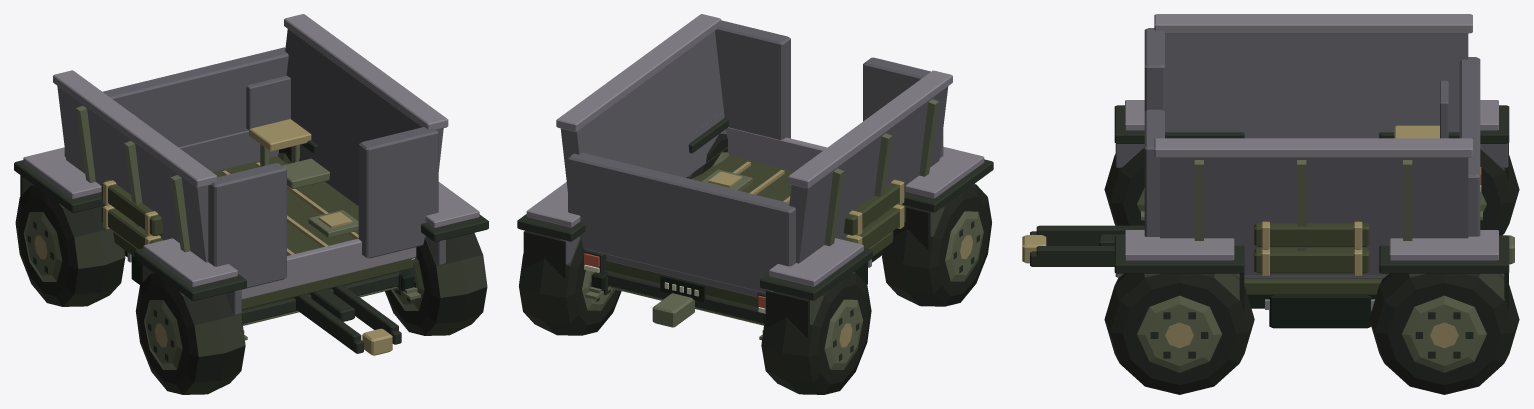
Rendered from military_wagon_anti_tank.glb.
3 views of the same model, side by side, from view 1: azimuth 30°, elevation 25°; view 2: azimuth 150°, elevation 25°; view 3: azimuth 270°, elevation 25° (orthographic). The views are drawn at different scales.
Visible parts, largest first — view 1: WagonDetails_anti_tank, WagonDeck.004, AllTerrainTire.016, AllTerrainTire.018, AllTerrainTire.017, DrawbarFrame.004; view 2: WagonDetails_anti_tank, WagonDeck.004, AllTerrainTire.018, AllTerrainTire.016, AllTerrainTire.019, AllTerrainTire.017; view 3: WagonDetails_anti_tank, WagonDeck.004, AllTerrainTire.017, AllTerrainTire.019, AllTerrainTire.018, AllTerrainTire.016, DrawbarFrame.004.
Part boxes in pixels (left/top/right/bottom): WagonDetails_anti_tank: left=53, top=14, right=448, bottom=289; WagonDeck.004: left=14, top=76, right=488, bottom=341; AllTerrainTire.016: left=135, top=272, right=245, bottom=394; AllTerrainTire.018: left=15, top=184, right=125, bottom=306; AllTerrainTire.017: left=385, top=233, right=487, bottom=335; DrawbarFrame.004: left=296, top=298, right=401, bottom=355; WagonDetails_anti_tank: left=556, top=14, right=952, bottom=292; WagonDeck.004: left=517, top=111, right=993, bottom=340; AllTerrainTire.018: left=761, top=272, right=871, bottom=394; AllTerrainTire.016: left=882, top=183, right=991, bottom=306; AllTerrainTire.019: left=519, top=237, right=621, bottom=335; AllTerrainTire.017: left=687, top=133, right=728, bottom=178; WagonDetails_anti_tank: left=1144, top=14, right=1480, bottom=275; WagonDeck.004: left=1036, top=80, right=1514, bottom=328; AllTerrainTire.017: left=1104, top=273, right=1254, bottom=394; AllTerrainTire.019: left=1369, top=273, right=1519, bottom=394; AllTerrainTire.018: left=1480, top=148, right=1519, bottom=235; AllTerrainTire.016: left=1104, top=147, right=1144, bottom=225; DrawbarFrame.004: left=1022, top=231, right=1114, bottom=266.
Size of the model in its own units: 4.48 by 3.12 by 5.82.
Materials: 2 (2 with a texture image).
